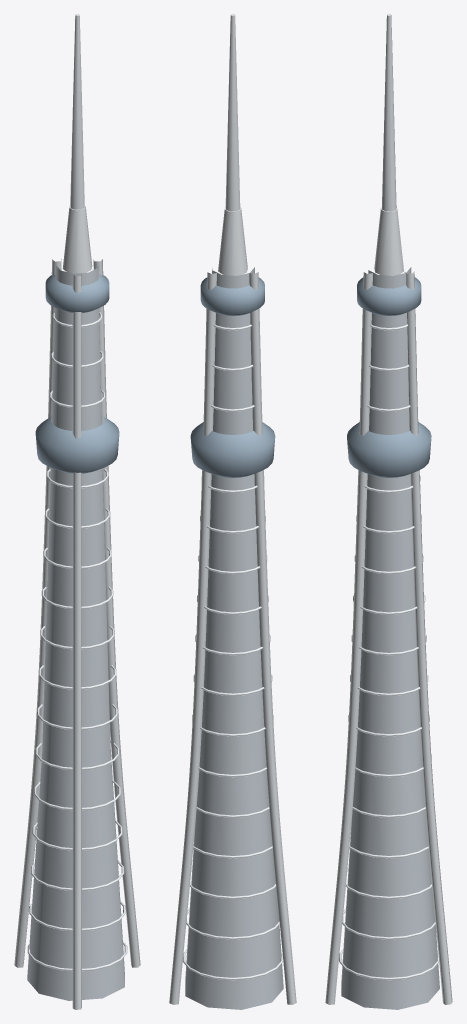
3 renders of one model, left to right at view 1: azimuth 30°, elevation 25°; view 2: azimuth 210°, elevation 25°; view 3: azimuth 330°, elevation 25°, orthographic.
Bounding box in the file's own units: 72.92 × 634 × 74.98.
